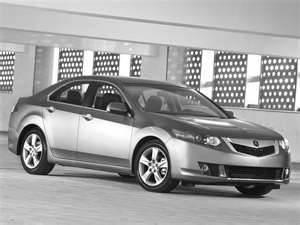car: (7, 74, 292, 200)
